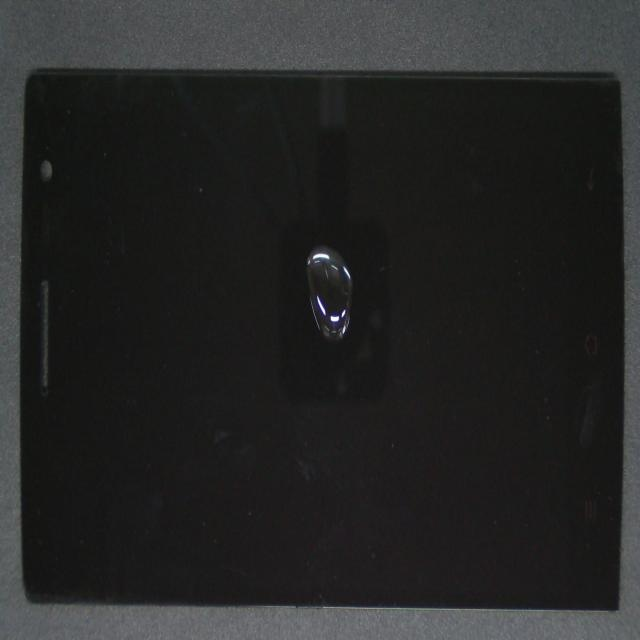oil: (182, 127, 493, 370)
